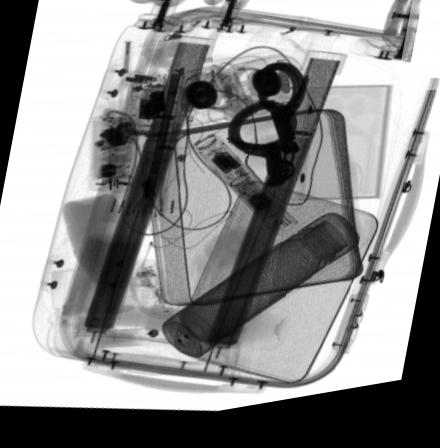Baton: (189, 139, 300, 244)
HandCuffs: (225, 70, 312, 192)
